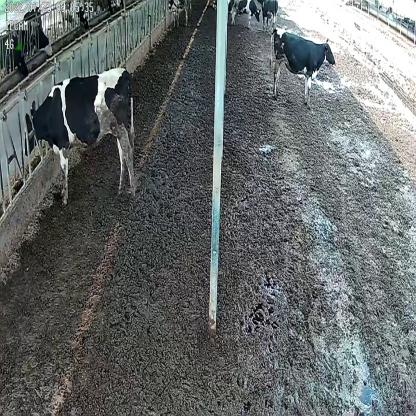cow: (23, 66, 136, 206), (269, 25, 335, 104), (229, 0, 261, 31), (261, 0, 278, 30)
